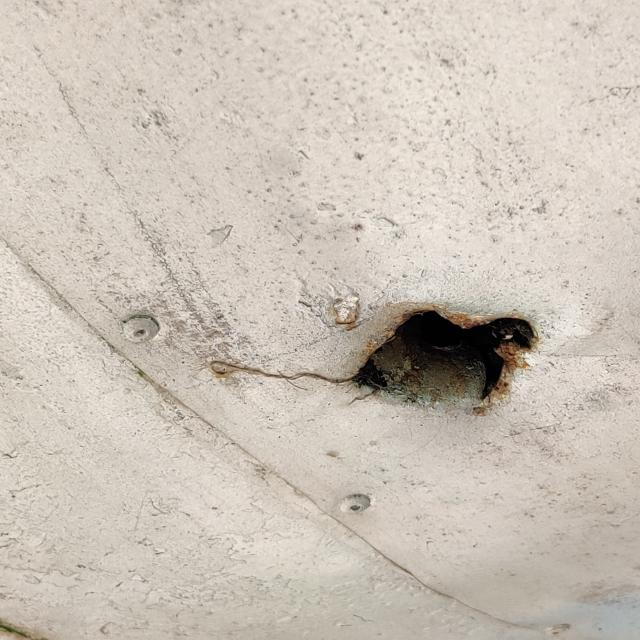crack: (196, 277, 555, 427)
